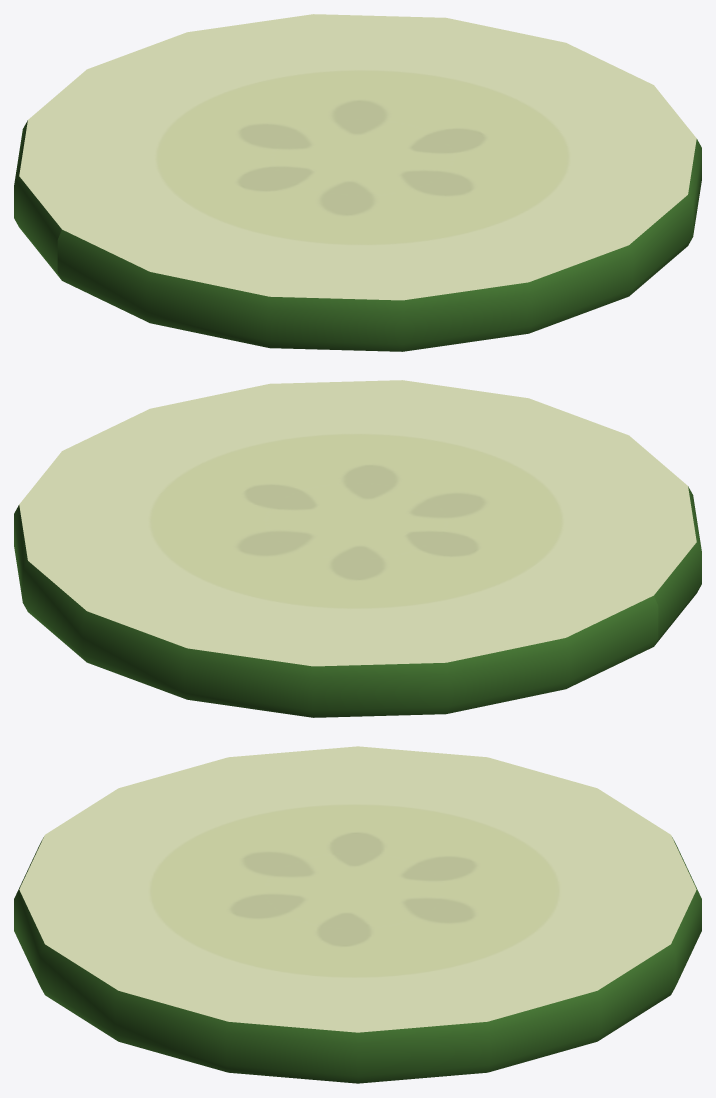
Rendered from Zuchinni.fbx.
3 views of the same model, one above another, from view 1: azimuth 30°, elevation 25°; view 2: azimuth 150°, elevation 25°; view 3: azimuth 270°, elevation 25° (orthographic).
Visible parts, largest first — view 1: Zucchini; view 2: Zucchini; view 3: Zucchini.
Boxes of the visible parts, <box> form: Zucchini: <box>14,14,701,351</box>; Zucchini: <box>14,380,701,717</box>; Zucchini: <box>14,746,701,1083</box>.
Size of the model in its own units: 81.7 by 6.67 by 81.7.
